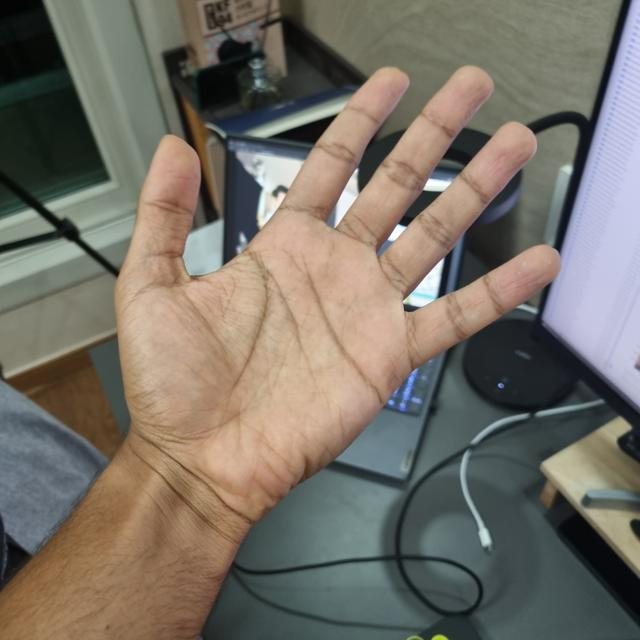Paper: (109, 62, 564, 521)
